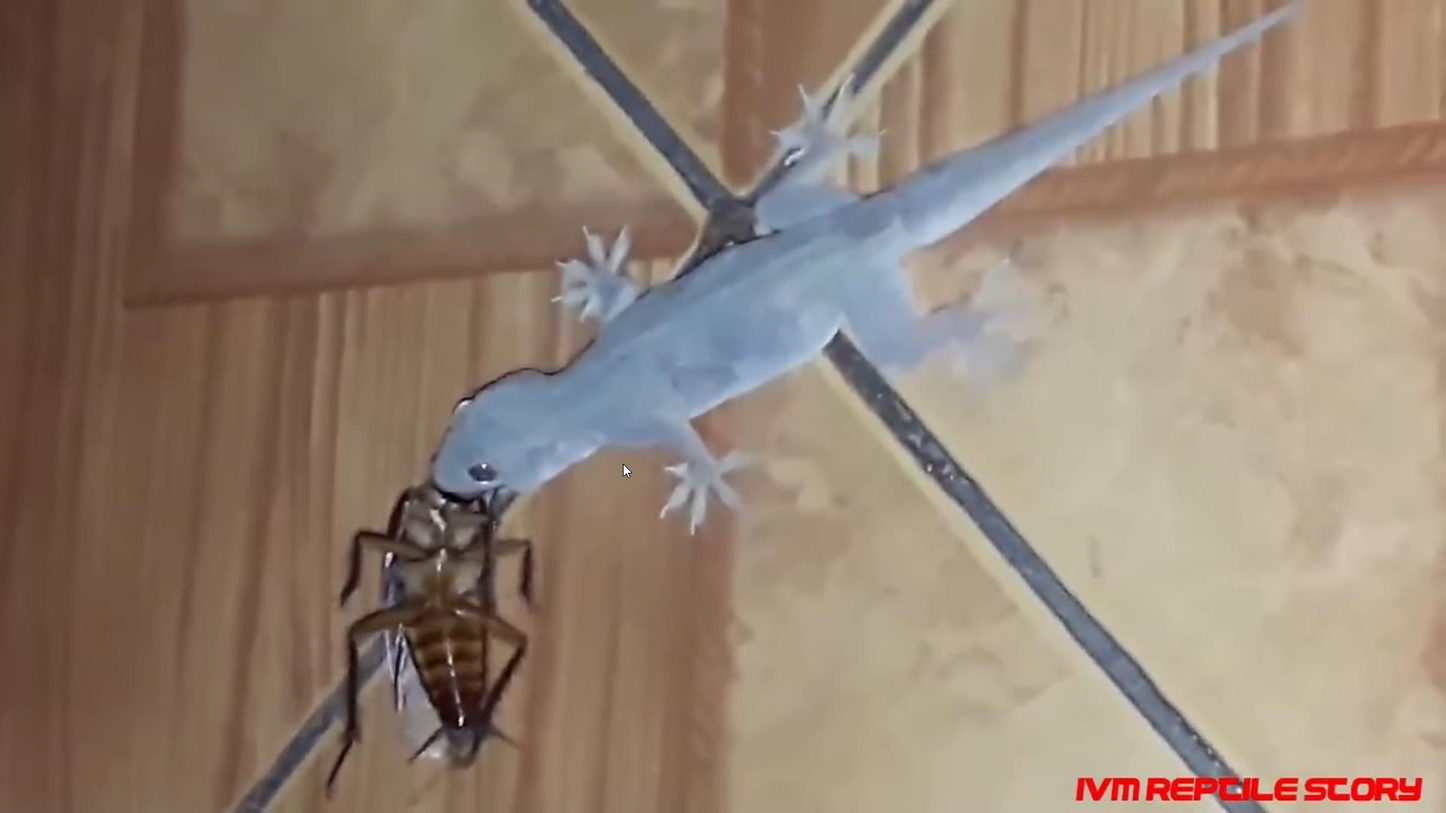cockroach: (322, 490, 577, 772)
lizard: (431, 71, 1189, 532)
